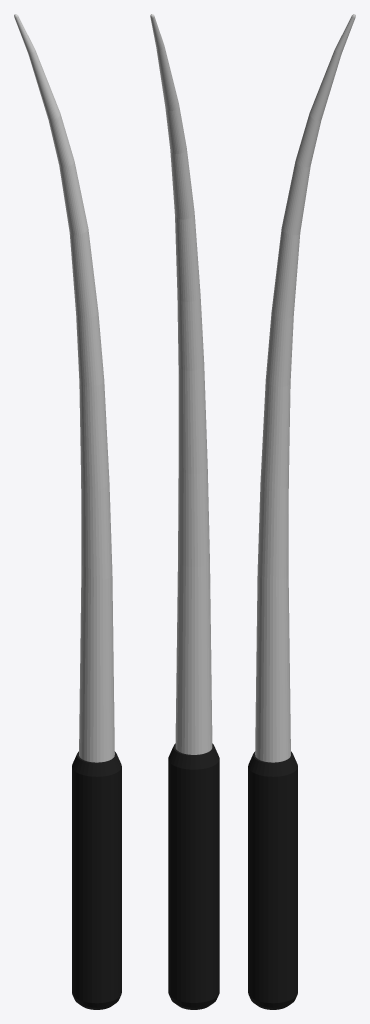
Rendered from FishingPole.fbx.
3 views of the same model, side by side, from view 1: azimuth 90°, elevation 25°; view 2: azimuth 150°, elevation 25°; view 3: azimuth 270°, elevation 25° (orthographic). The views are drawn at different scales.
Visible parts, largest first — view 1: FishingPole; view 2: FishingPole; view 3: FishingPole.
Boxes of the visible parts, box(x1,y1,x2,y2) form: FishingPole: box(14, 14, 121, 1009); FishingPole: box(150, 14, 219, 1009); FishingPole: box(248, 14, 355, 1009).
Size of the model in its own units: 10 by 220 by 21.57.
1 material, 1 textured.
